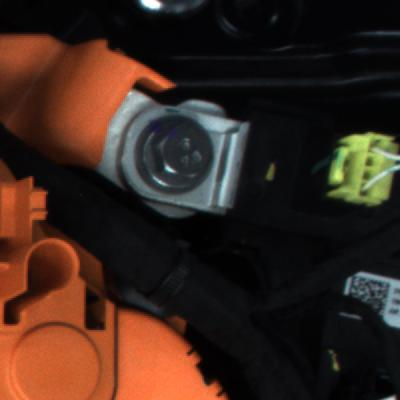nut_b: (127, 109, 225, 200)
